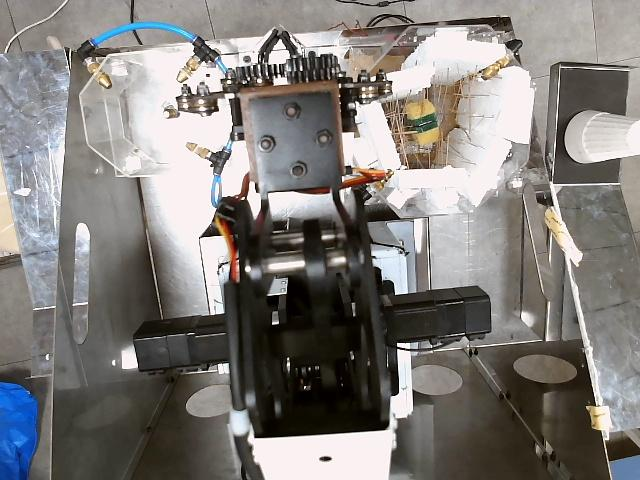cup: (566, 110, 639, 163)
